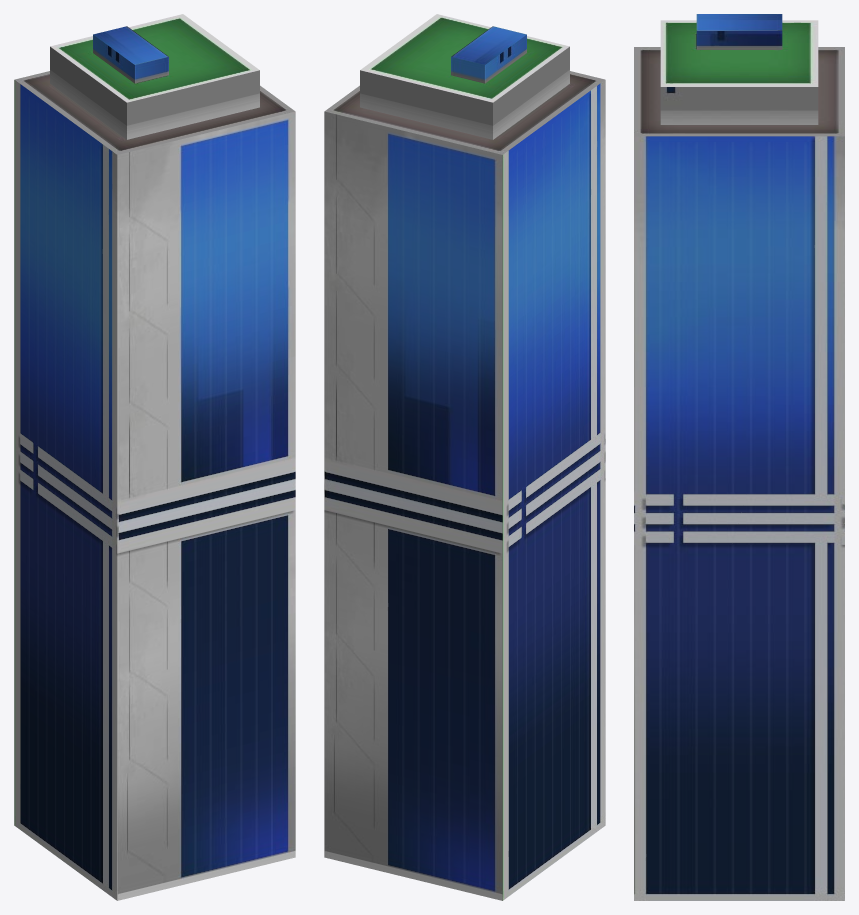
Rendered from House_2(2).FBX.
3 renders of one model, left to right at view 1: azimuth 30°, elevation 25°; view 2: azimuth 150°, elevation 25°; view 3: azimuth 270°, elevation 25°, orthographic. The views are drawn at different scales.
Parts seen in each view (by area): view 1: house_2; view 2: house_2; view 3: house_2.
Boxes of the visible parts, left/top/right/bottom form: house_2: left=14, top=14, right=295, bottom=900; house_2: left=324, top=14, right=605, bottom=900; house_2: left=634, top=14, right=844, bottom=900.
Bounding box in the file's own units: 25 × 107 × 25.
Materials: 1 (1 with a texture image).
